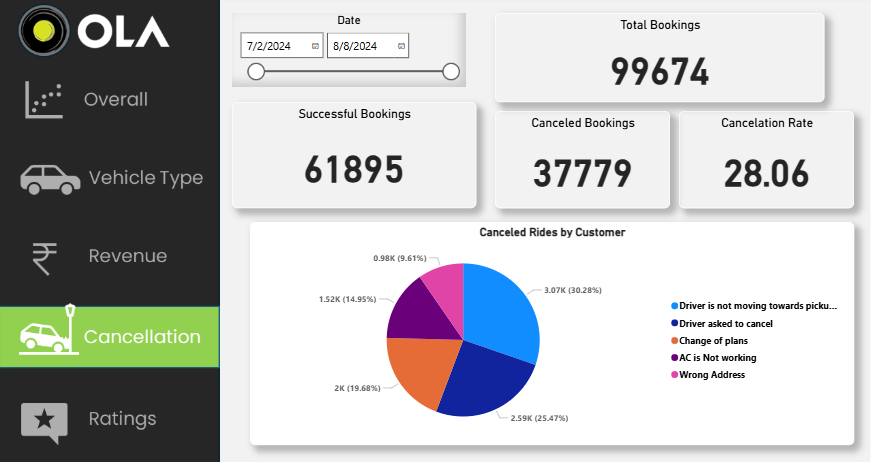

The page's visual inventory and layout, read from the dashboard file:
{"tool":"powerbi","page":{"name":"Cancellation","canvas":[1280,720],"ordinal":3},"visuals":[{"type":"actionButton","box":[0,556.9,324.7,124.9],"z":0},{"type":"pieChart","title":"Canceled Rides by Customer ","fields":{"Category":["July.Canceled_Rides_by_Customer"],"Y":["CountNonNull(July.Canceled_Rides_by_Customer)"]},"box":[368.8,332.1,887.5,327.7],"z":1},{"type":"card","title":"Total Bookings","fields":{"Values":["CountNonNull(July.Booking_ID)"]},"box":[729,25.2,483.8,131],"z":3},{"type":"slicer","title":"Date","fields":{"Values":["July.Date"]},"box":[342.4,25,343.8,108.7],"z":4},{"type":"card","title":"Successful Bookings","fields":{"Values":["CountNonNull(July.Booking_ID)"]},"box":[342.4,155.8,358.5,155.8],"z":5},{"type":"card","title":"Canceled Bookings","fields":{"Values":["CountNonNull(July.Booking_ID)"]},"box":[728.8,169,257.1,142.5],"z":6},{"type":"card","title":"Cancelation Rate","fields":{"Values":["July.percentage"]},"box":[999.2,169,257.1,142.5],"z":7}]}

Visuals, with their boxes on the page's 1280x720 design canvas (x1, y1, x2, y2). These are canvas units, not pixel positions in the 871x462 screenshot, which may show the page scaled, cropped or inside an application window:
actionButton: pyautogui.locateOnScreen(0, 557, 325, 682)
"Canceled Rides by Customer " pieChart: pyautogui.locateOnScreen(369, 332, 1256, 660)
"Total Bookings" card: pyautogui.locateOnScreen(729, 25, 1213, 156)
"Date" slicer: pyautogui.locateOnScreen(342, 25, 686, 134)
"Successful Bookings" card: pyautogui.locateOnScreen(342, 156, 701, 312)
"Canceled Bookings" card: pyautogui.locateOnScreen(729, 169, 986, 312)
"Cancelation Rate" card: pyautogui.locateOnScreen(999, 169, 1256, 312)
